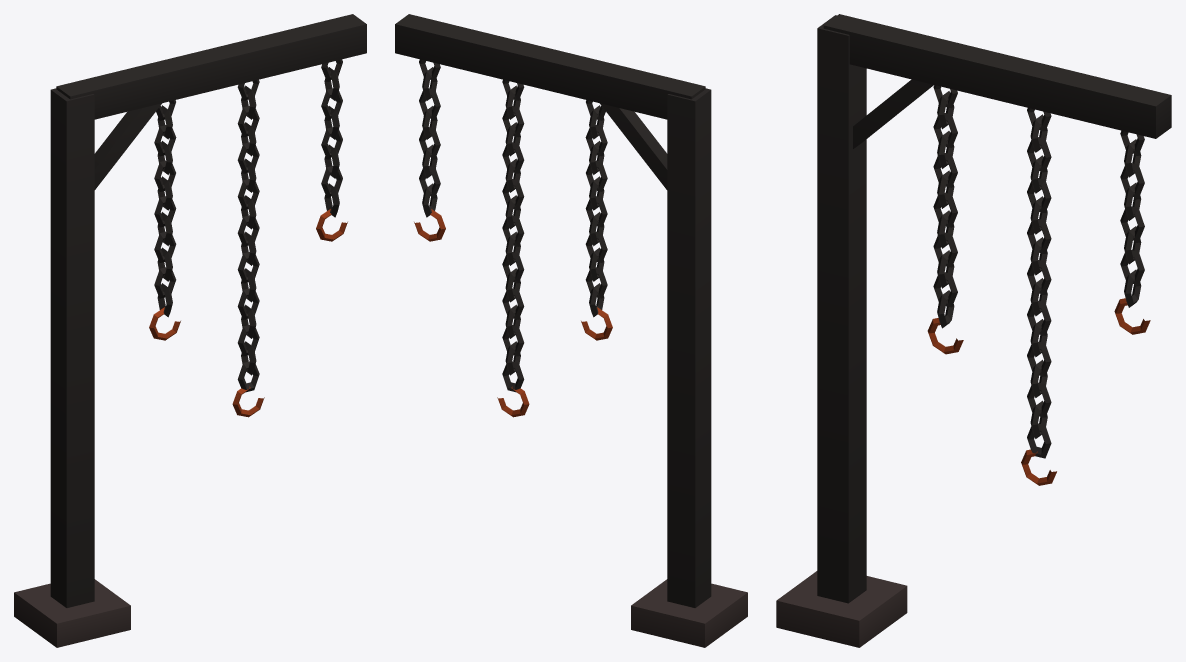
Rendered from hanging_chains.glb.
The picture shows the model from 3 angles, left to right: view 1: azimuth 30°, elevation 25°; view 2: azimuth 150°, elevation 25°; view 3: azimuth 330°, elevation 25°; orthographic projection. The views are drawn at different scales.
Visible parts, largest first — view 1: hanging_chains_mesh; view 2: hanging_chains_mesh; view 3: hanging_chains_mesh.
Part boxes in pixels (<box>): hanging_chains_mesh: <box>14,14,366,647</box>; hanging_chains_mesh: <box>395,14,747,647</box>; hanging_chains_mesh: <box>776,14,1171,647</box>.
Bounding box in the file's own units: 3.5 × 5.51 × 0.8.
